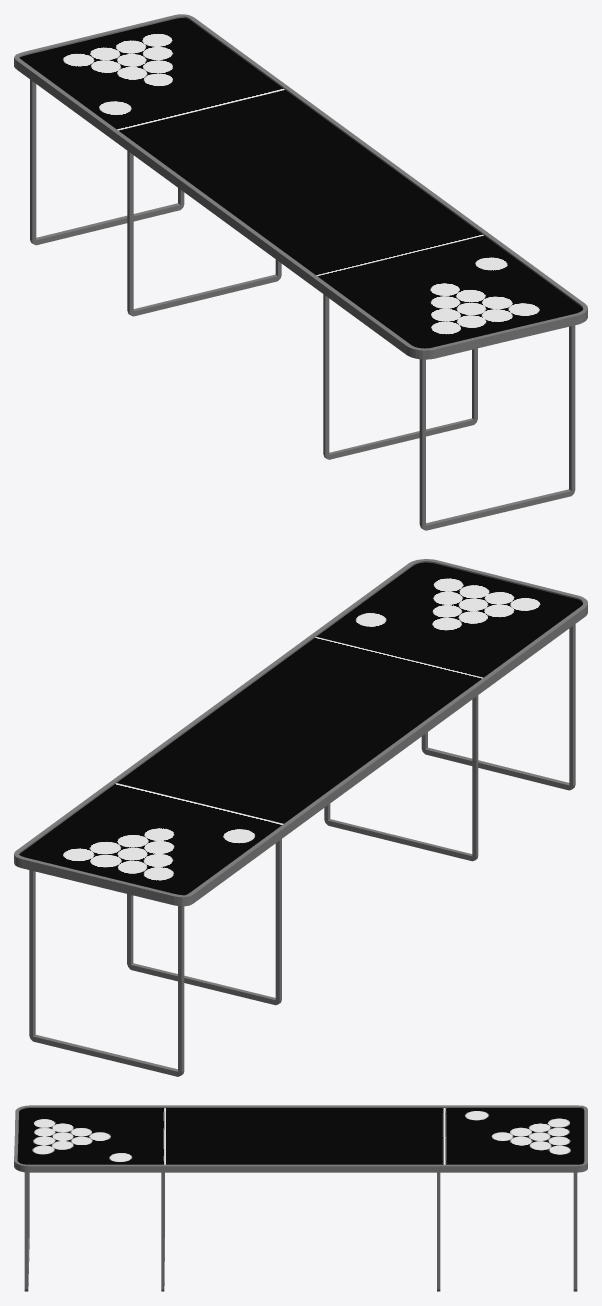
File: Table.glb
3 renders of one model, top to bottom at view 1: azimuth 30°, elevation 25°; view 2: azimuth 150°, elevation 25°; view 3: azimuth 270°, elevation 25°, orthographic. The views are drawn at different scales.
Visible parts, largest first — view 1: Table; view 2: Table; view 3: Table.
Part boxes in pixels (x1,y1,x2,y2): Table: (14,14,587,530); Table: (14,559,587,1076); Table: (14,1105,587,1291).
Bounding box in the file's own units: 0.61 × 0.6133 × 2.44.
Materials: 2 (1 with a texture image).
